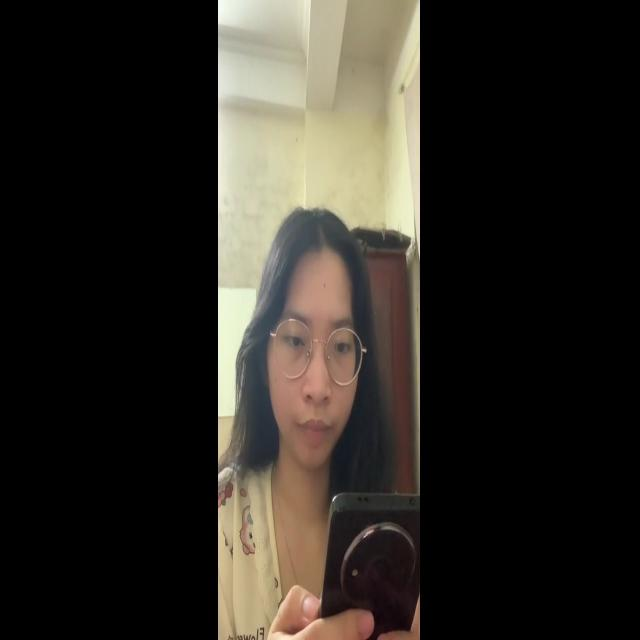phone: (326, 475, 423, 631)
student: (251, 202, 366, 466)
